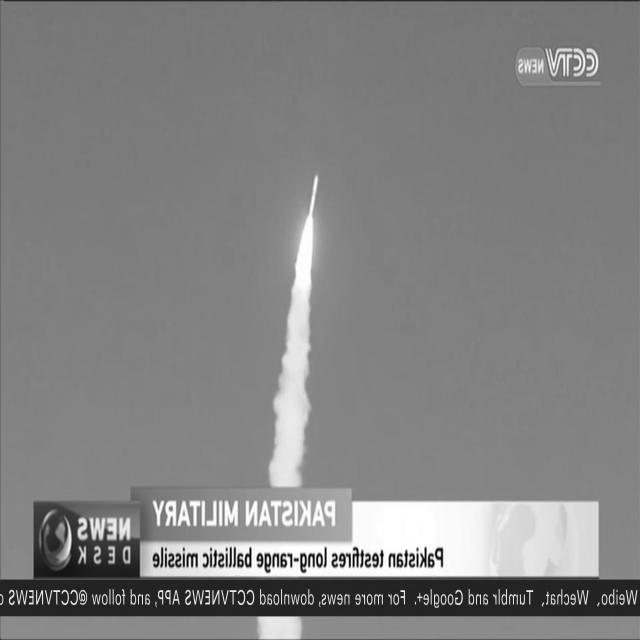Missile: (305, 162, 323, 239)
